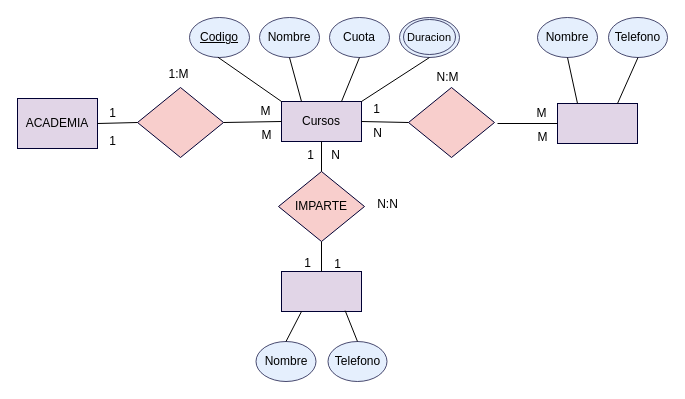
This 685x399 diagram has some shape labels left out. The shapes that lost their labels are listed below. From the top down, each one's centre as x and y in pixels, then its label:
[180,122]: DICTA
[451,122]: INCRIP- CIÓN
[597,123]: Alumnos
[321,291]: Instructor
